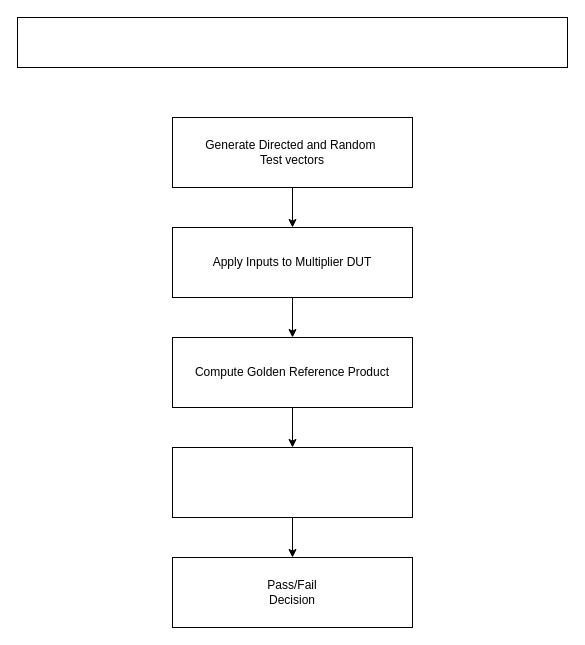
The diagram is 585 pixels wide and 645 high, and some of its shapes have lost their labels. The centre of each missing label's shape, as x and y in pixels:
Compare DUT Output With Reference Output: point (292, 482)
Verification and Validation Flow: point (292, 42)
